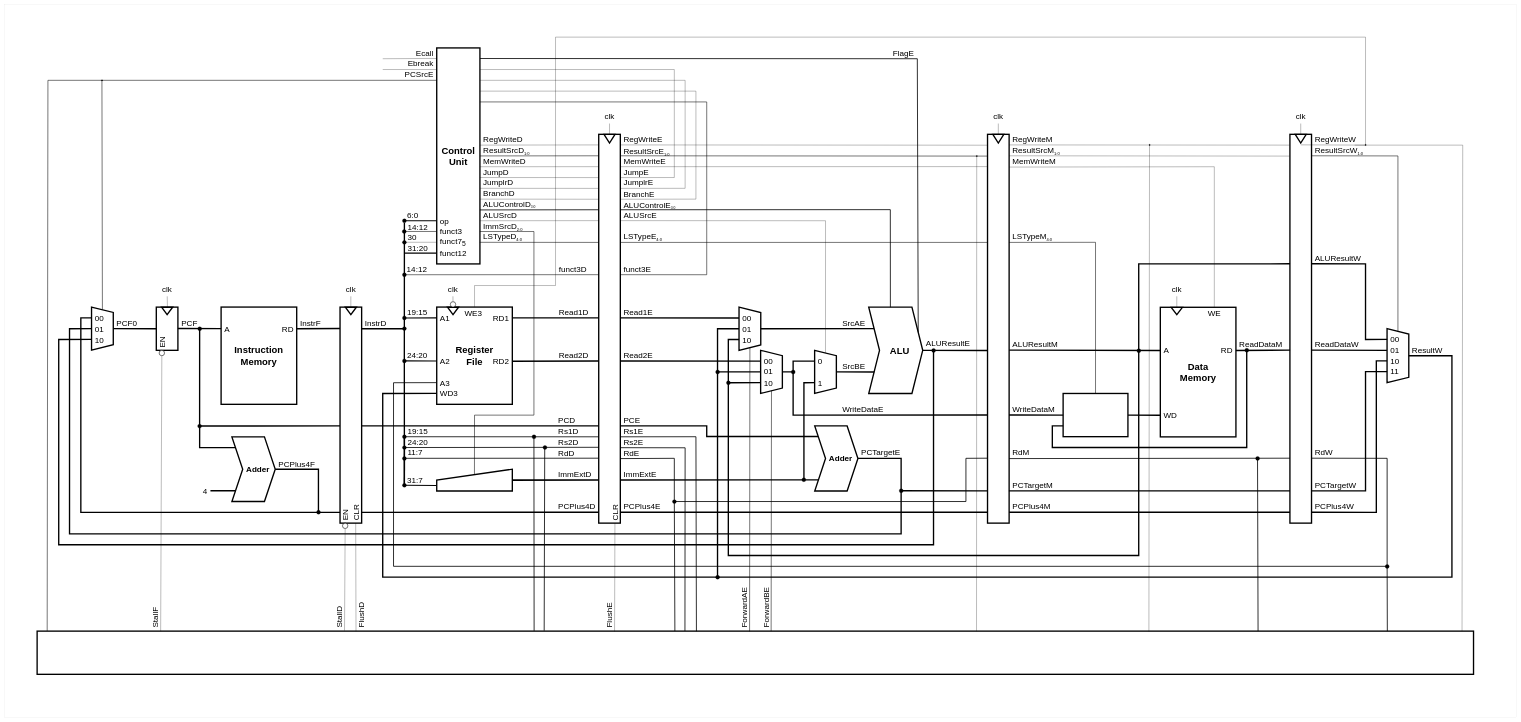
The diagram is 1521 pixels wide and 722 high, and some of its shapes have lost their labels. The centre of each missing label's shape, as x and y in pixels:
"Extender" goes at point (474, 480).
"Hazard Unit" goes at point (755, 652).
"Memory Read - Write Unit" goes at point (1095, 415).
